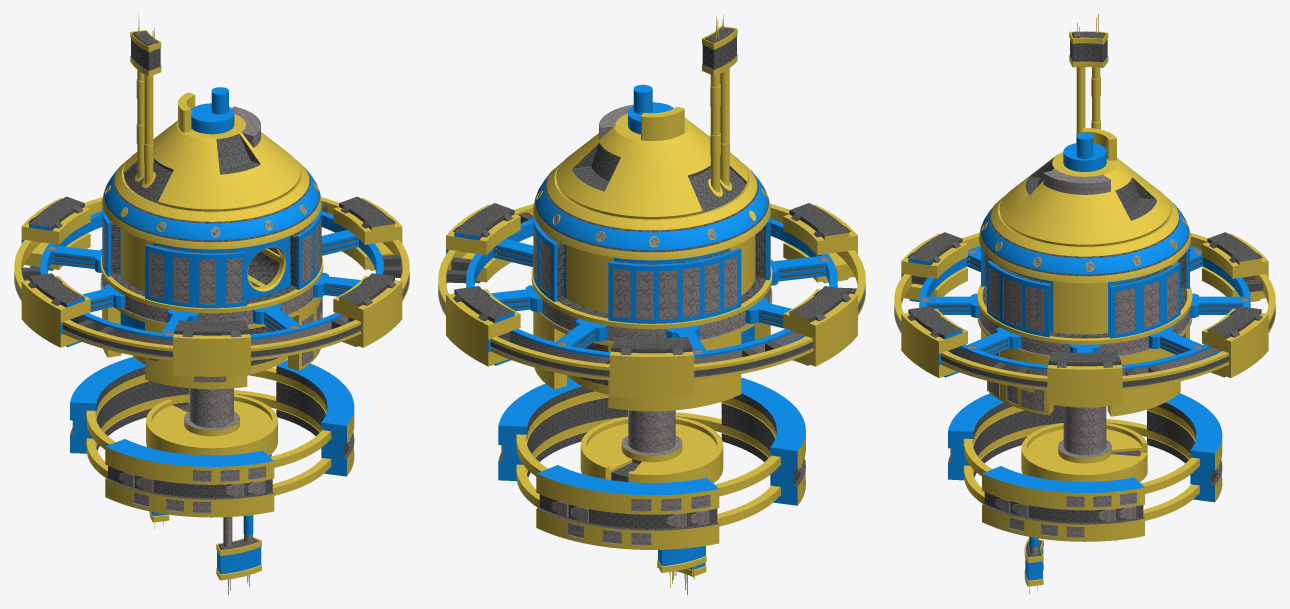
Rendered from Spacestation_text.fbx.
3 renders of one model, left to right at view 1: azimuth 30°, elevation 25°; view 2: azimuth 150°, elevation 25°; view 3: azimuth 270°, elevation 25°, orthographic. The views are drawn at different scales.
Parts seen in each view (by area): view 1: Cylinder.024, Cylinder.042, Cylinder.039, Cylinder.045, Cylinder.043, Cylinder.038, Cylinder.037, Cylinder.040, Cylinder.029, Cylinder.026, Cylinder.041, Cylinder.035 (+7 smaller); view 2: Cylinder.024, Cylinder.042, Cylinder.037, Cylinder.045, Cylinder.039, Cylinder.043, Cylinder.038, Cylinder.035, Cylinder.028, Cylinder.026, Cylinder.034, Cylinder.040 (+8 smaller); view 3: Cylinder.024, Cylinder.042, Cylinder.038, Cylinder.045, Cylinder.037, Cylinder.043, Cylinder.039, Cylinder.036, Cylinder.034, Cylinder.041, Cylinder.032, Cylinder.040 (+8 smaller).
Part boxes in pixels (<box>): Cylinder.024: <box>100,159,323,427</box>; Cylinder.042: <box>123,14,300,211</box>; Cylinder.039: <box>105,439,274,517</box>; Cylinder.045: <box>146,394,277,594</box>; Cylinder.043: <box>86,368,331,495</box>; Cylinder.038: <box>276,359,354,476</box>; Cylinder.037: <box>70,356,189,453</box>; Cylinder.040: <box>173,320,250,376</box>; Cylinder.029: <box>250,303,360,360</box>; Cylinder.026: <box>21,273,90,347</box>; Cylinder.041: <box>333,273,402,347</box>; Cylinder.035: <box>21,196,90,270</box>; Cylinder.024: <box>531,163,772,452</box>; Cylinder.042: <box>556,14,747,219</box>; Cylinder.037: <box>536,465,719,549</box>; Cylinder.045: <box>580,416,723,594</box>; Cylinder.039: <box>721,377,805,505</box>; Cylinder.043: <box>516,391,780,526</box>; Cylinder.038: <box>498,376,627,480</box>; Cylinder.035: <box>609,336,694,397</box>; Cylinder.028: <box>490,318,610,380</box>; Cylinder.026: <box>783,286,857,366</box>; Cylinder.034: <box>446,286,520,366</box>; Cylinder.040: <box>783,203,857,283</box>; Cylinder.024: <box>977,196,1192,455</box>; Cylinder.042: <box>999,14,1170,246</box>; Cylinder.038: <box>982,466,1144,541</box>; Cylinder.045: <box>1021,423,1147,594</box>; Cylinder.037: <box>1147,393,1222,502</box>; Cylinder.043: <box>964,406,1199,520</box>; Cylinder.039: <box>948,393,1063,480</box>; Cylinder.036: <box>1047,351,1122,406</box>; Cylinder.034: <box>1202,306,1268,377</box>; Cylinder.041: <box>901,306,967,377</box>; Cylinder.032: <box>1139,327,1228,387</box>; Cylinder.040: <box>901,232,967,301</box>.
Bounding box in the file's own units: 183092 × 287253 × 180000.
